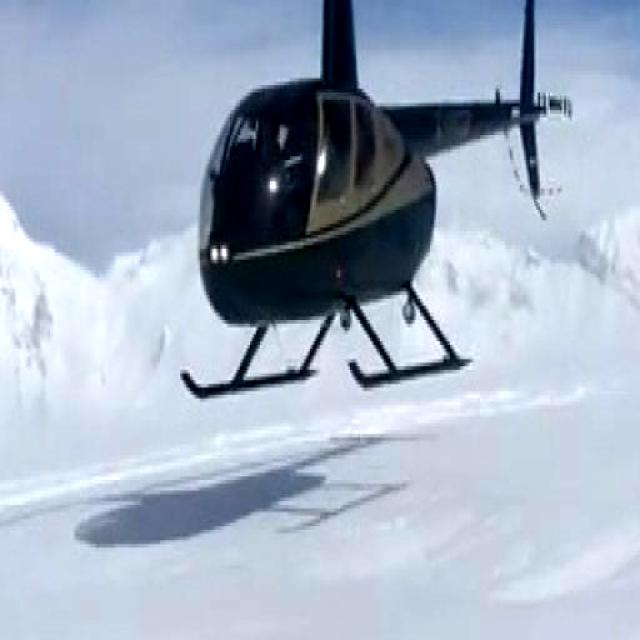drone: (162, 0, 576, 398)
